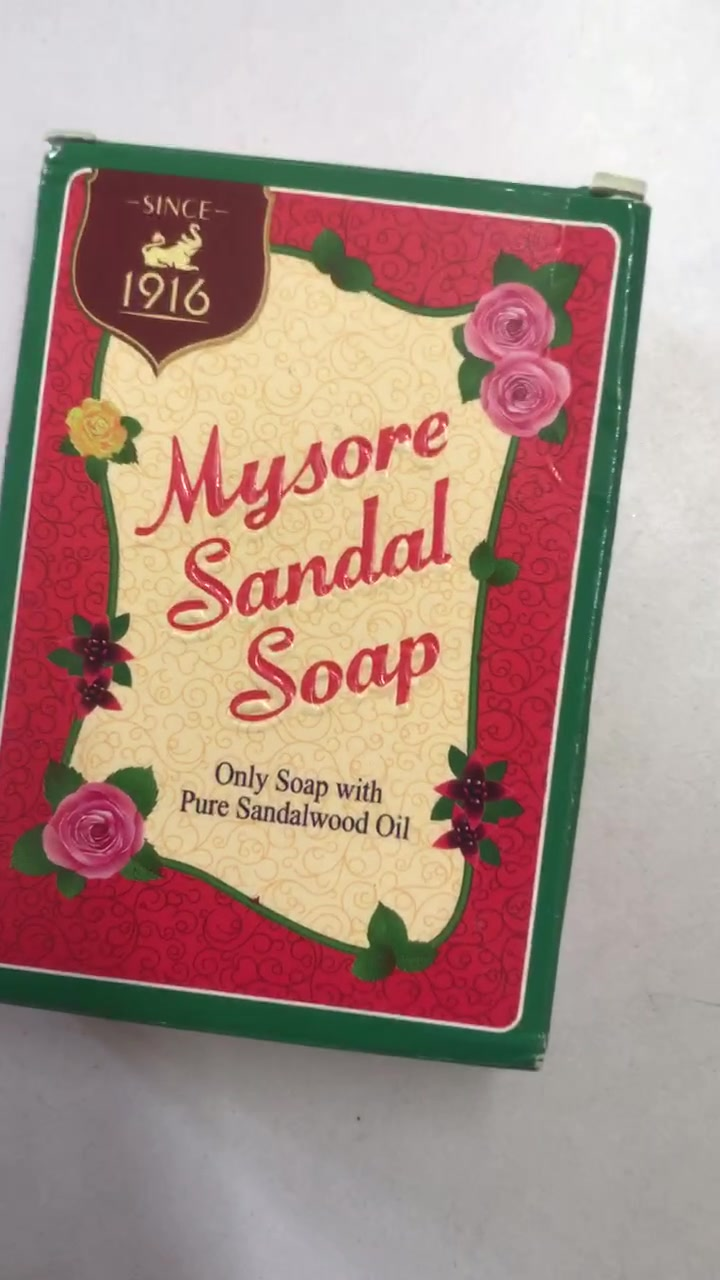mysore sandal soap: (14, 150, 645, 1060)
